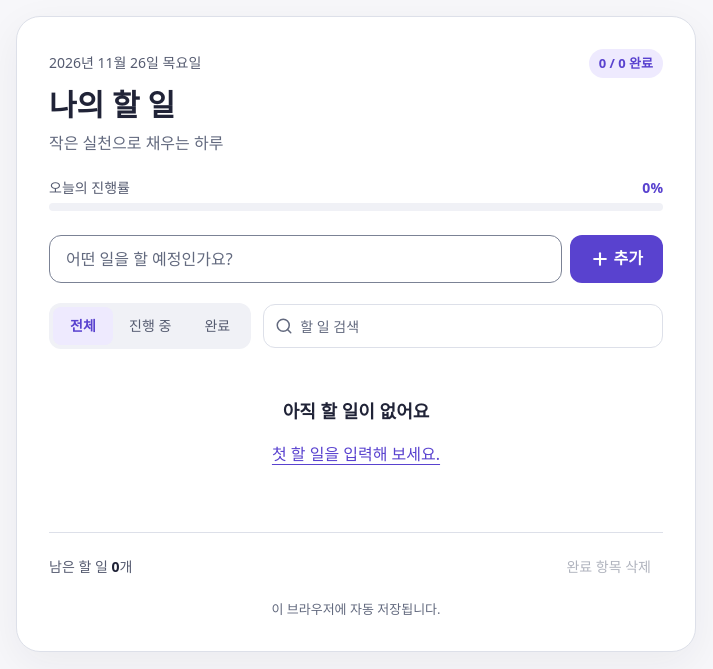
Scenario: TodoApp 통합 컴포넌트 테스트 › 할 일 내용을 수정하고 저장하거나 취소할 수 있다
In the field with placeholder "어떤 일을 할 예정인가요?": (305, 259) [49,235,562,283], type "운동하기"
Then press Enter
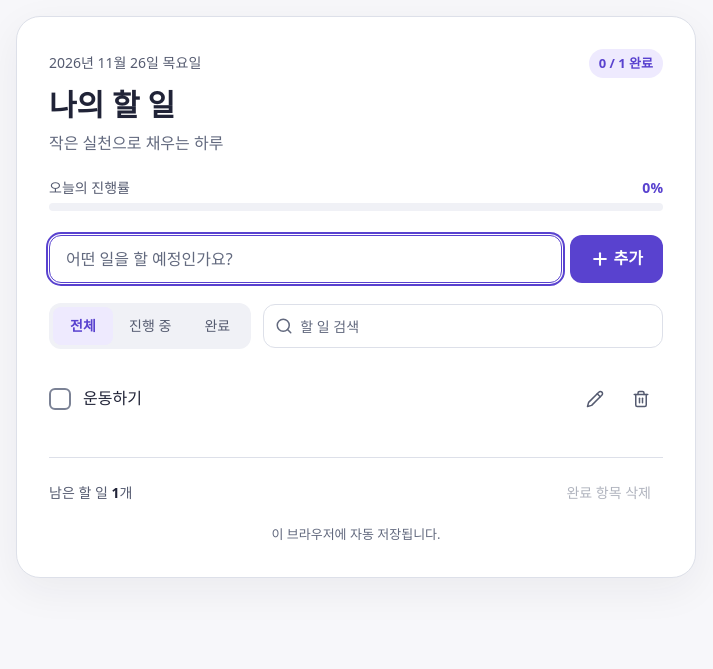
Note: 수정 버튼 클릭
Click the button named "\"운동하기\" 수정": (595, 399) [573,377,617,421]
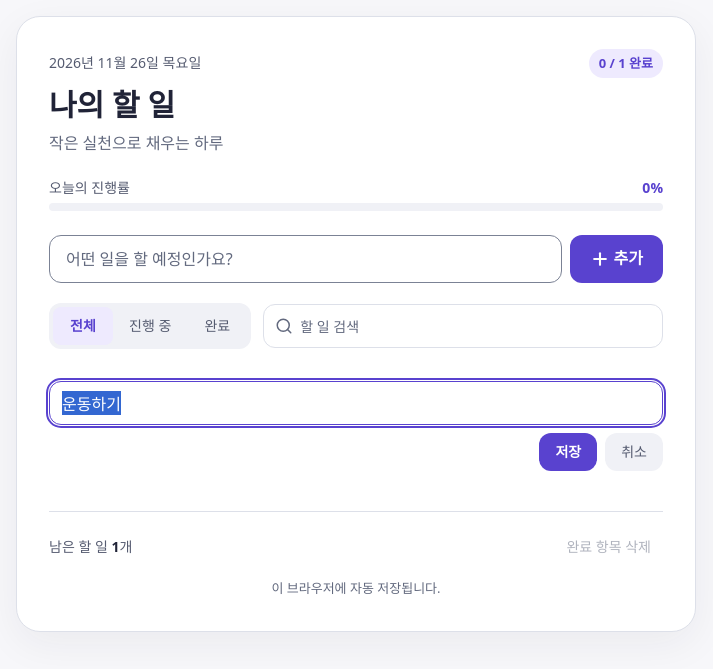
Check: the field named "할 일 수정" holds "운동하기"
Note:  Esc로 취소
In the field named "할 일 수정": (356, 403) [49,381,663,425], type " 수정중"
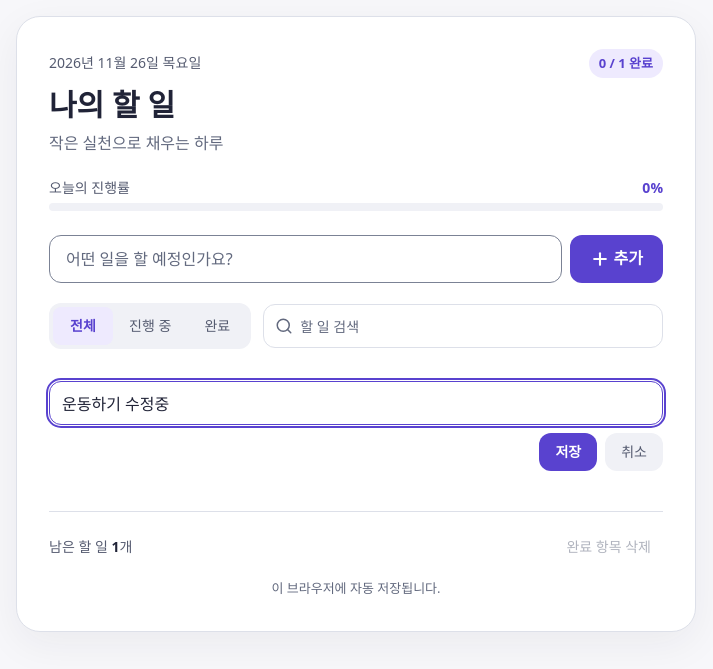
Press Escape
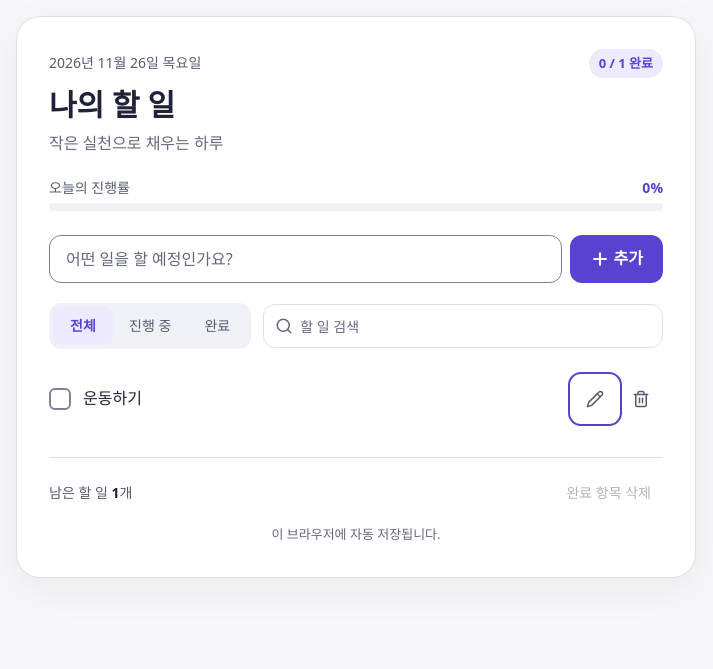
Check: the field labelled "할 일 수정" is not shown
Check: the text "운동하기" is shown, box [83,388,142,410]
Note: 다시 수정 진입 후 Enter로 저장
Click the button named "\"운동하기\" 수정": (595, 399) [573,377,617,421]
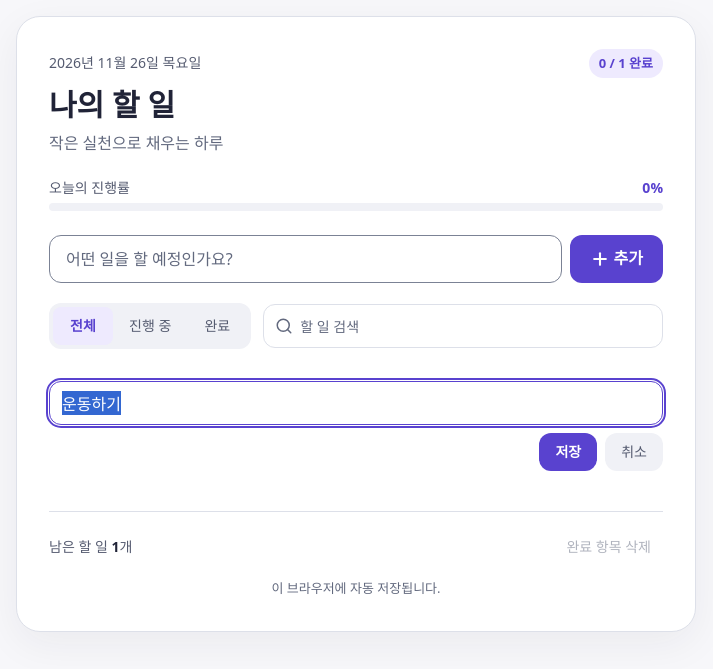
Replace the text in the field named "할 일 수정" with "달리기 5km": (356, 403) [49,381,663,425]
Then press Enter
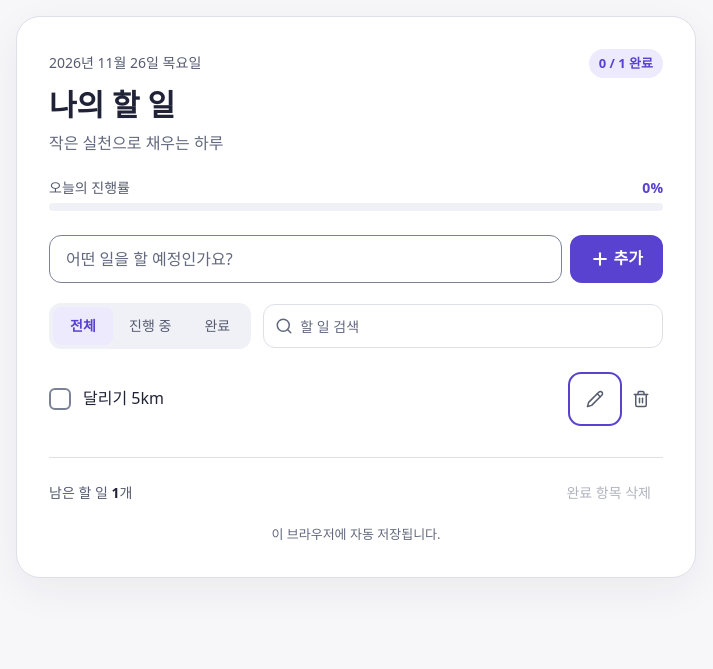
Check: the text "달리기 5km" is shown, box [83,388,164,410]
